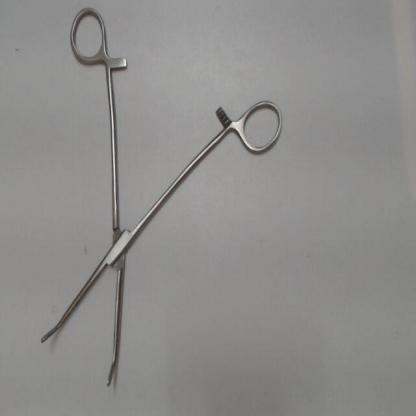Lahey Forceps: (32, 2, 286, 393)
